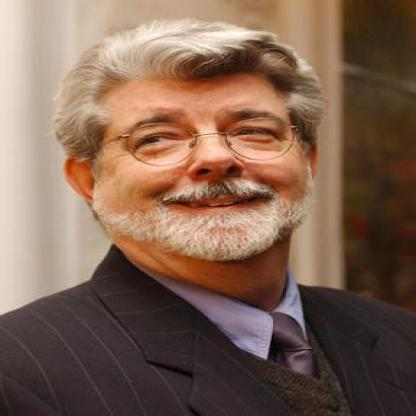face: (89, 31, 320, 266)
